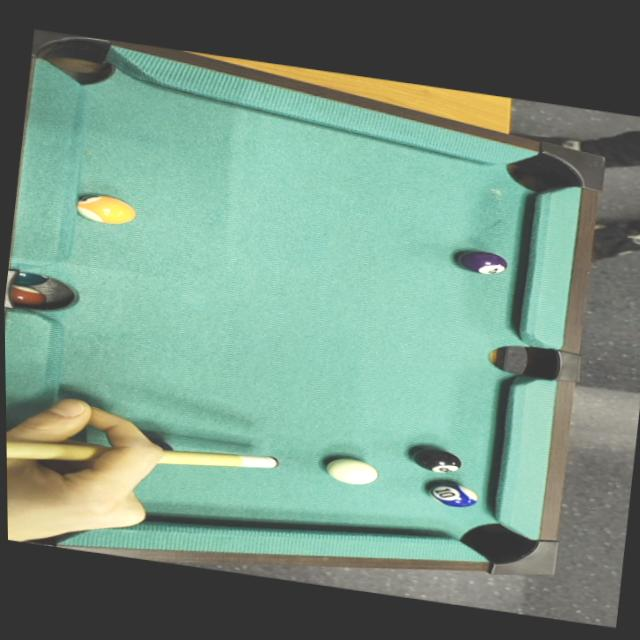cue ball: (322, 452, 385, 488)
other: (68, 186, 146, 229), (422, 477, 480, 512), (450, 245, 511, 278), (410, 444, 463, 476)
